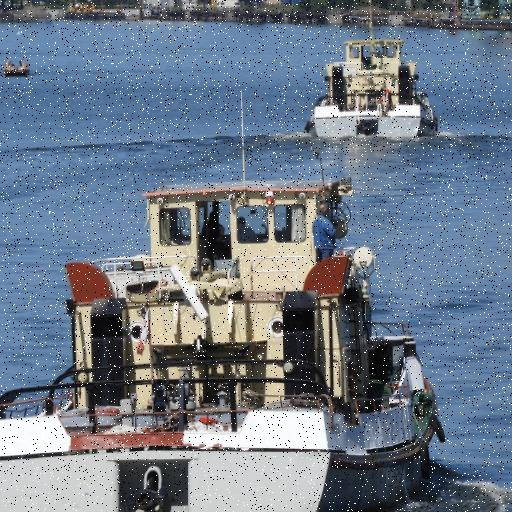tugboat: (1, 175, 451, 512), (303, 35, 442, 149)
